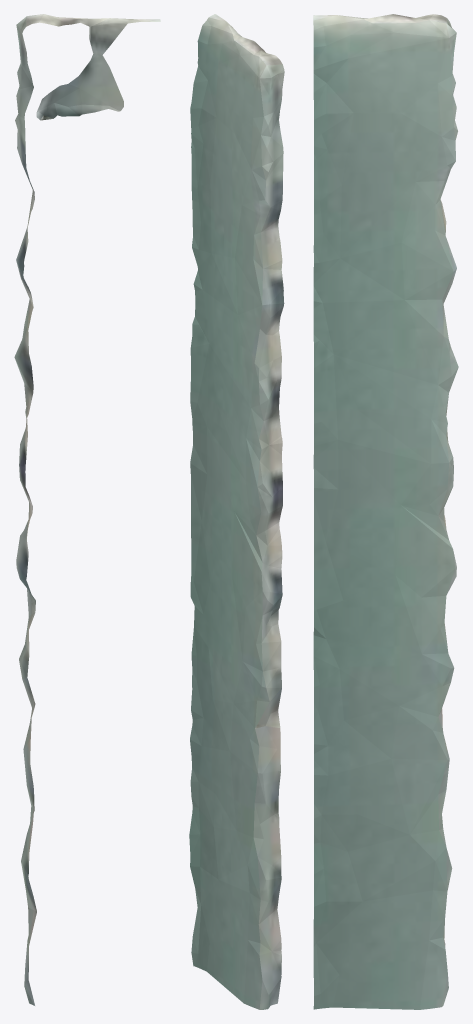
File: Tile_+011_+009_L21_0000002300.glb
3 renders of one model, left to right at view 1: azimuth 90°, elevation 25°; view 2: azimuth 210°, elevation 25°; view 3: azimuth 270°, elevation 25°, orthographic. The views are drawn at different scales.
Visible parts, largest first — view 1: rtc; view 2: rtc; view 3: rtc.
Boxes of the visible parts, x1,y1,x2,y2 form: rtc: (14, 14, 160, 1005); rtc: (189, 14, 284, 1009); rtc: (313, 14, 458, 1009).
Size of the model in its own units: 0.8218 by 25.08 by 3.36.
1 material, 1 textured.
